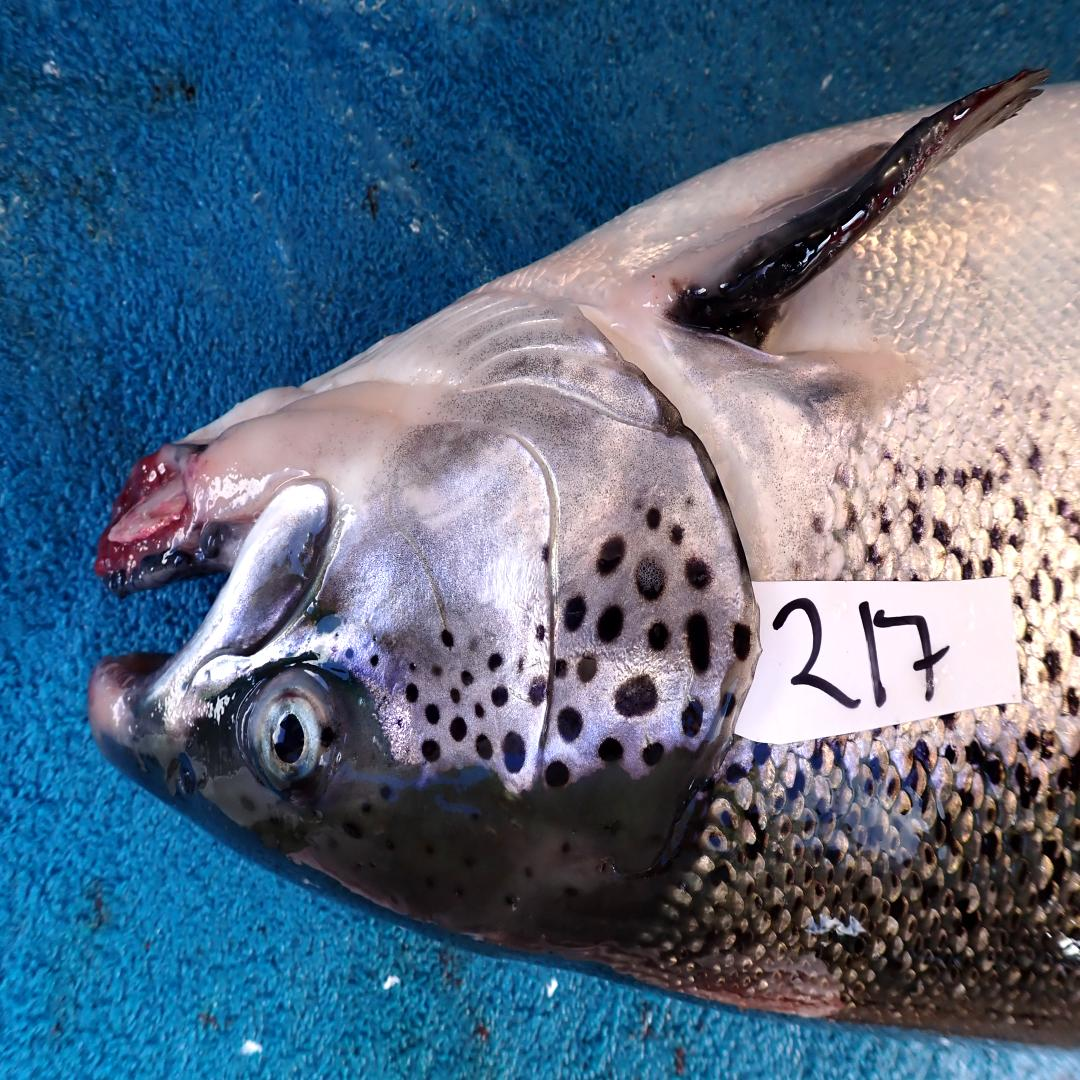roi: (332, 283, 759, 791)
